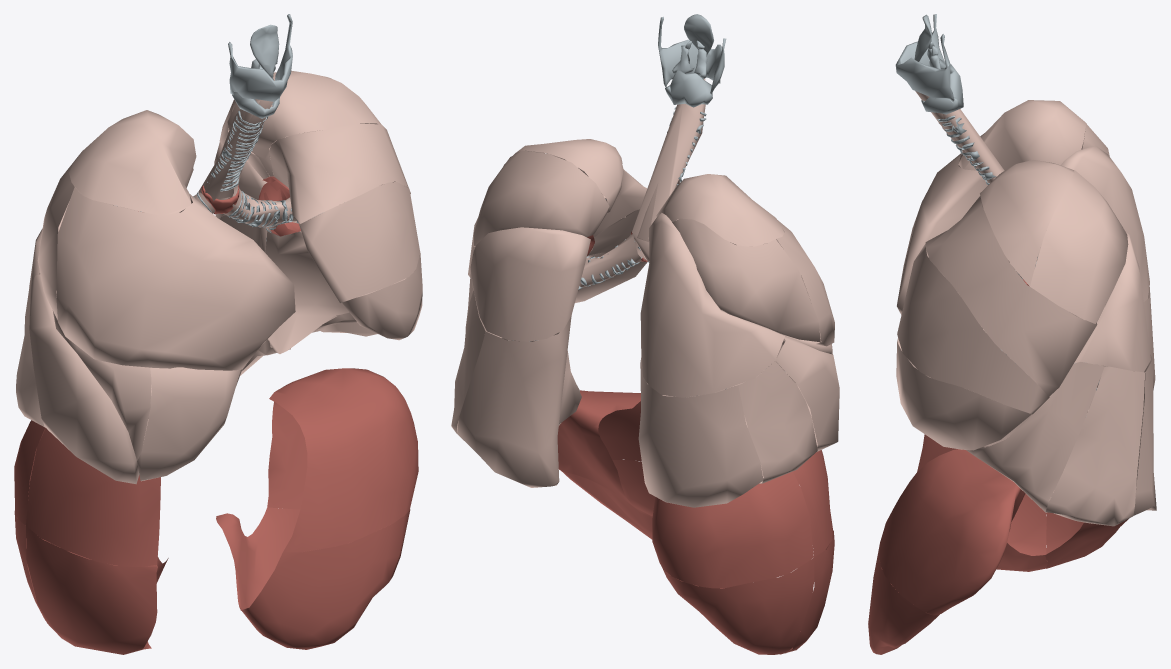
The model's file is adult_female.respiratory.LOD3.glb.
The picture shows the model from 3 angles, left to right: view 1: azimuth 30°, elevation 25°; view 2: azimuth 150°, elevation 25°; view 3: azimuth 270°, elevation 25°; orthographic projection. The views are drawn at different scales.
Visible parts, largest first — view 1: ADULT.FEMALE.RESPIRATORY.ANTERIOR_BRONCHOPULMONARY_SEGM.R, ADULT.FEMALE.RESPIRATORY.SUPEROMEDIAL_SEGMENT.L, ADULT.FEMALE.RESPIRATORY.ANTEROLATERAL_SEGMENT.L, ADULT.FEMALE.RESPIRATORY.ANTEROSUPERIOR_SEGMENT.R, ADULT.FEMALE.RESPIRATORY.ANTEROINFERIOR_SEGMENT.R, ADULT.FEMALE.RESPIRATORY.ANTERIOR_BASAL_BRONCHOPULMONARY_SEG, ADULT.FEMALE.RESPIRATORY.LINGULA_SUPERIOR_BRONCHOPULMONARY_S, ADULT.FEMALE.RESPIRATORY.APICAL_BRONCHOPULMONARY_SEGMENT.R, ADULT.FEMALE.RESPIRATORY.ANTERIOR_BRONCHOPULMONARY_SEGMENT.L, ADULT.FEMALE.RESPIRATORY.MEDIAL_BRONCHOPULMONARY_SEGMENT.R, ADULT.FEMALE.RESPIRATORY.APICAL_BRONCHOPULMONARY_SEGMENT.L, ADULT.FEMALE.RESPIRATORY.MEDIAL_BASAL_BRONCHOPULMONARY_SEGME (+15 smaller); view 2: ADULT.FEMALE.RESPIRATORY.POSTERIOR_BASAL_BRONCHOPULMONARY_SE (×2), ADULT.FEMALE.RESPIRATORY.POSTERIOR_BRONCHOPULMONARY_SEGMENT. (×2), ADULT.FEMALE.RESPIRATORY.SUPERIOR_BRONCHOPULMONARY_SEGMENT.R, ADULT.FEMALE.RESPIRATORY.POSTEROSUPERIOR_SEGMENT.R, ADULT.FEMALE.RESPIRATORY.SUPERIOR_BRONCHOPULMONARY_SEGMENT.L, ADULT.FEMALE.RESPIRATORY.LATERAL_BASAL_BRONCHOPULMONARY_SEGM (×2), ADULT.FEMALE.RESPIRATORY.POSTEROINFERIOR_SEGMENT.R, ADULT.FEMALE.RESPIRATORY.SUPEROMEDIAL_SEGMENT.L, ADULT.FEMALE.RESPIRATORY.APICAL_BRONCHOPULMONARY_SEGMENT.R, ADULT.FEMALE.RESPIRATORY.ANTERIOR_BASAL_BRONCHOPULMONARY_SEG, ADULT.FEMALE.RESPIRATORY.TRACHEA, ADULT.FEMALE.RESPIRATORY.ANTEROLATERAL_SEGMENT.L (+11 smaller); view 3: ADULT.FEMALE.RESPIRATORY.SUPEROMEDIAL_SEGMENT.L, ADULT.FEMALE.RESPIRATORY.ANTERIOR_BRONCHOPULMONARY_SEGMENT.L, ADULT.FEMALE.RESPIRATORY.LINGULA_SUPERIOR_BRONCHOPULMONARY_S, ADULT.FEMALE.RESPIRATORY.LATERAL_BASAL_BRONCHOPULMONARY_SEGM, ADULT.FEMALE.RESPIRATORY.POSTERIOR_BRONCHOPULMONARY_SEGMENT., ADULT.FEMALE.RESPIRATORY.ANTERIOR_BASAL_BRONCHOPULMONARY_SEG, ADULT.FEMALE.RESPIRATORY.LINGULA_INFERIOR_BRONCHOPULMONARY_S, ADULT.FEMALE.RESPIRATORY.APICAL_BRONCHOPULMONARY_SEGMENT.L, ADULT.FEMALE.RESPIRATORY.APICAL_BRONCHOPULMONARY_SEGMENT.R, ADULT.FEMALE.RESPIRATORY.SUPERIOR_BRONCHOPULMONARY_SEGMENT.L, ADULT.FEMALE.RESPIRATORY.ANTERIOR_BRONCHOPULMONARY_SEGM.R, ADULT.FEMALE.RESPIRATORY.SUPERIOR_BRONCHOPULMONARY_SEGMENT.R (+10 smaller).
Part boxes in pixels (x1,y1,x2,y2): ADULT.FEMALE.RESPIRATORY.ANTERIOR_BRONCHOPULMONARY_SEGM.R: [56, 187, 295, 370]; ADULT.FEMALE.RESPIRATORY.SUPEROMEDIAL_SEGMENT.L: [267, 368, 418, 552]; ADULT.FEMALE.RESPIRATORY.ANTEROLATERAL_SEGMENT.L: [216, 507, 410, 649]; ADULT.FEMALE.RESPIRATORY.ANTEROSUPERIOR_SEGMENT.R: [26, 428, 160, 566]; ADULT.FEMALE.RESPIRATORY.ANTEROINFERIOR_SEGMENT.R: [26, 526, 168, 654]; ADULT.FEMALE.RESPIRATORY.ANTERIOR_BASAL_BRONCHOPULMONARY_SEG: [29, 274, 151, 484]; ADULT.FEMALE.RESPIRATORY.LINGULA_SUPERIOR_BRONCHOPULMONARY_S: [298, 182, 420, 302]; ADULT.FEMALE.RESPIRATORY.APICAL_BRONCHOPULMONARY_SEGMENT.R: [69, 110, 196, 215]; ADULT.FEMALE.RESPIRATORY.ANTERIOR_BRONCHOPULMONARY_SEGMENT.L: [269, 123, 410, 223]; ADULT.FEMALE.RESPIRATORY.MEDIAL_BRONCHOPULMONARY_SEGMENT.R: [137, 367, 240, 481]; ADULT.FEMALE.RESPIRATORY.APICAL_BRONCHOPULMONARY_SEGMENT.L: [227, 70, 381, 176]; ADULT.FEMALE.RESPIRATORY.MEDIAL_BASAL_BRONCHOPULMONARY_SEGME: [265, 231, 349, 353]; ADULT.FEMALE.RESPIRATORY.POSTERIOR_BASAL_BRONCHOPULMONARY_SE (×2): [457, 316, 763, 507]; ADULT.FEMALE.RESPIRATORY.POSTERIOR_BRONCHOPULMONARY_SEGMENT. (×2): [474, 150, 820, 342]; ADULT.FEMALE.RESPIRATORY.SUPERIOR_BRONCHOPULMONARY_SEGMENT.R: [640, 213, 784, 397]; ADULT.FEMALE.RESPIRATORY.POSTEROSUPERIOR_SEGMENT.R: [652, 471, 813, 588]; ADULT.FEMALE.RESPIRATORY.SUPERIOR_BRONCHOPULMONARY_SEGMENT.L: [470, 227, 590, 341]; ADULT.FEMALE.RESPIRATORY.LATERAL_BASAL_BRONCHOPULMONARY_SEGM (×2): [451, 290, 817, 483]; ADULT.FEMALE.RESPIRATORY.POSTEROINFERIOR_SEGMENT.R: [662, 557, 814, 654]; ADULT.FEMALE.RESPIRATORY.SUPEROMEDIAL_SEGMENT.L: [557, 390, 641, 507]; ADULT.FEMALE.RESPIRATORY.APICAL_BRONCHOPULMONARY_SEGMENT.R: [656, 174, 784, 246]; ADULT.FEMALE.RESPIRATORY.ANTERIOR_BASAL_BRONCHOPULMONARY_SEG: [719, 334, 839, 451]; ADULT.FEMALE.RESPIRATORY.TRACHEA: [632, 78, 705, 261]; ADULT.FEMALE.RESPIRATORY.ANTEROLATERAL_SEGMENT.L: [561, 460, 655, 539]; ADULT.FEMALE.RESPIRATORY.SUPEROMEDIAL_SEGMENT.L: [879, 449, 1025, 615]; ADULT.FEMALE.RESPIRATORY.ANTERIOR_BRONCHOPULMONARY_SEGMENT.L: [925, 196, 1097, 396]; ADULT.FEMALE.RESPIRATORY.LINGULA_SUPERIOR_BRONCHOPULMONARY_S: [897, 244, 1049, 414]; ADULT.FEMALE.RESPIRATORY.LATERAL_BASAL_BRONCHOPULMONARY_SEGM: [1045, 366, 1145, 526]; ADULT.FEMALE.RESPIRATORY.POSTERIOR_BRONCHOPULMONARY_SEGMENT.: [1030, 170, 1128, 323]; ADULT.FEMALE.RESPIRATORY.ANTERIOR_BASAL_BRONCHOPULMONARY_SEG: [966, 362, 1104, 512]; ADULT.FEMALE.RESPIRATORY.LINGULA_INFERIOR_BRONCHOPULMONARY_S: [896, 329, 1031, 450]; ADULT.FEMALE.RESPIRATORY.APICAL_BRONCHOPULMONARY_SEGMENT.L: [980, 160, 1074, 286]; ADULT.FEMALE.RESPIRATORY.APICAL_BRONCHOPULMONARY_SEGMENT.R: [958, 100, 1086, 170]; ADULT.FEMALE.RESPIRATORY.SUPERIOR_BRONCHOPULMONARY_SEGMENT.L: [1074, 231, 1150, 372]; ADULT.FEMALE.RESPIRATORY.ANTERIOR_BRONCHOPULMONARY_SEGM.R: [897, 152, 988, 314]; ADULT.FEMALE.RESPIRATORY.SUPERIOR_BRONCHOPULMONARY_SEGMENT.R: [1060, 145, 1149, 301].
Bounding box in the file's own units: 0.2557 × 0.4014 × 0.169.
